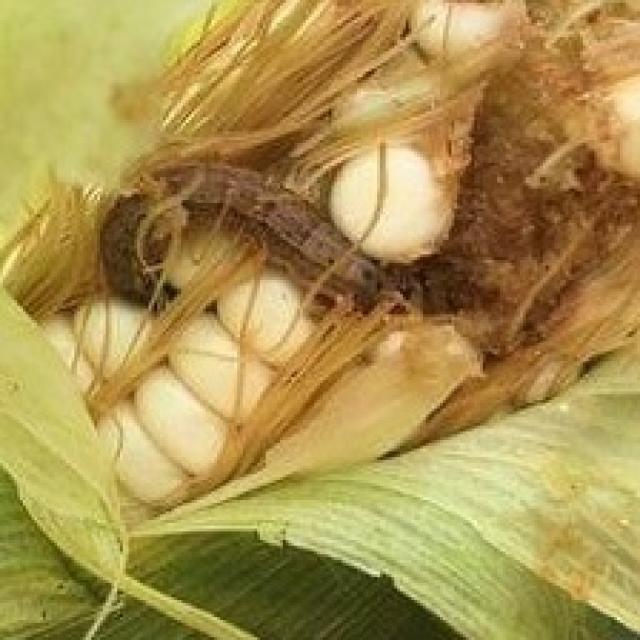worm: (84, 132, 387, 356)
